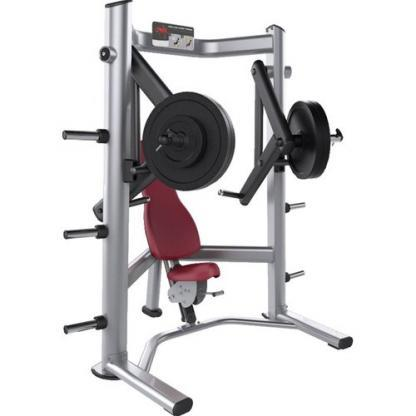Chest Press machine: (54, 0, 360, 416)
